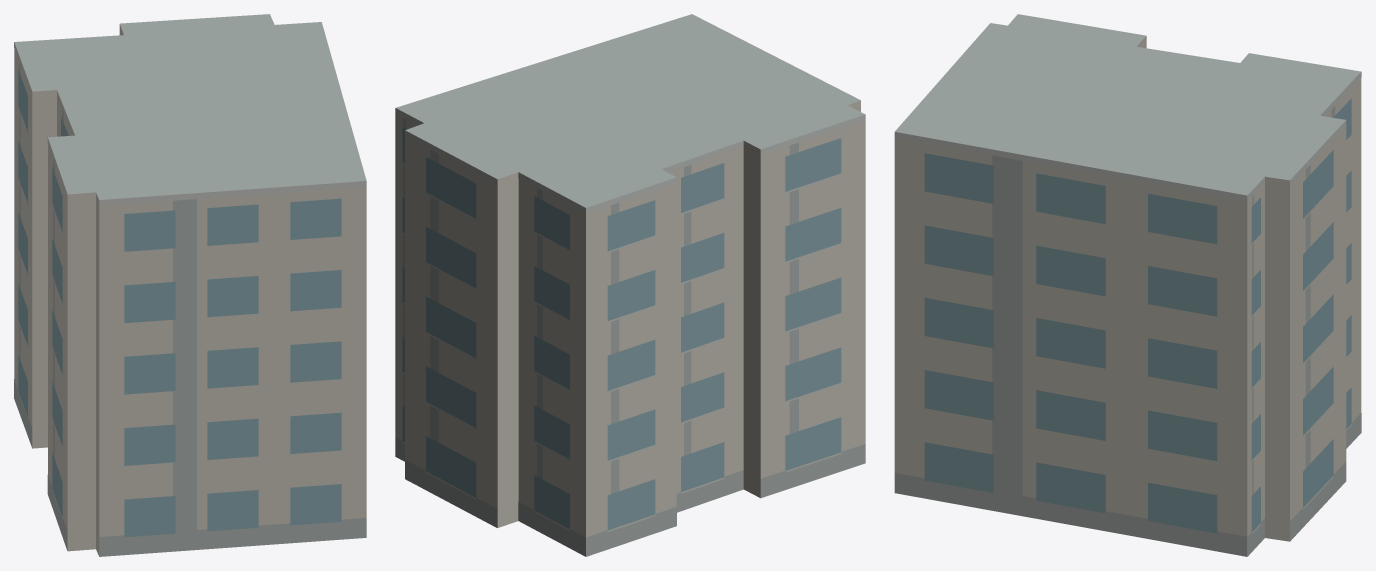
File: survey-upis-32566701.glb
The picture shows the model from 3 angles, left to right: view 1: azimuth 30°, elevation 25°; view 2: azimuth 150°, elevation 25°; view 3: azimuth 270°, elevation 25°; orthographic projection. The views are drawn at different scales.
Parts seen in each view (by area): view 1: survey-upis-32566701.tmp; view 2: survey-upis-32566701.tmp; view 3: survey-upis-32566701.tmp.
Boxes of the visible parts, x1,y1,x2,y2 form: survey-upis-32566701.tmp: [14, 14, 366, 556]; survey-upis-32566701.tmp: [395, 14, 865, 556]; survey-upis-32566701.tmp: [894, 14, 1361, 556].
Size of the model in its own units: 15.67 by 14.53 by 17.02.
